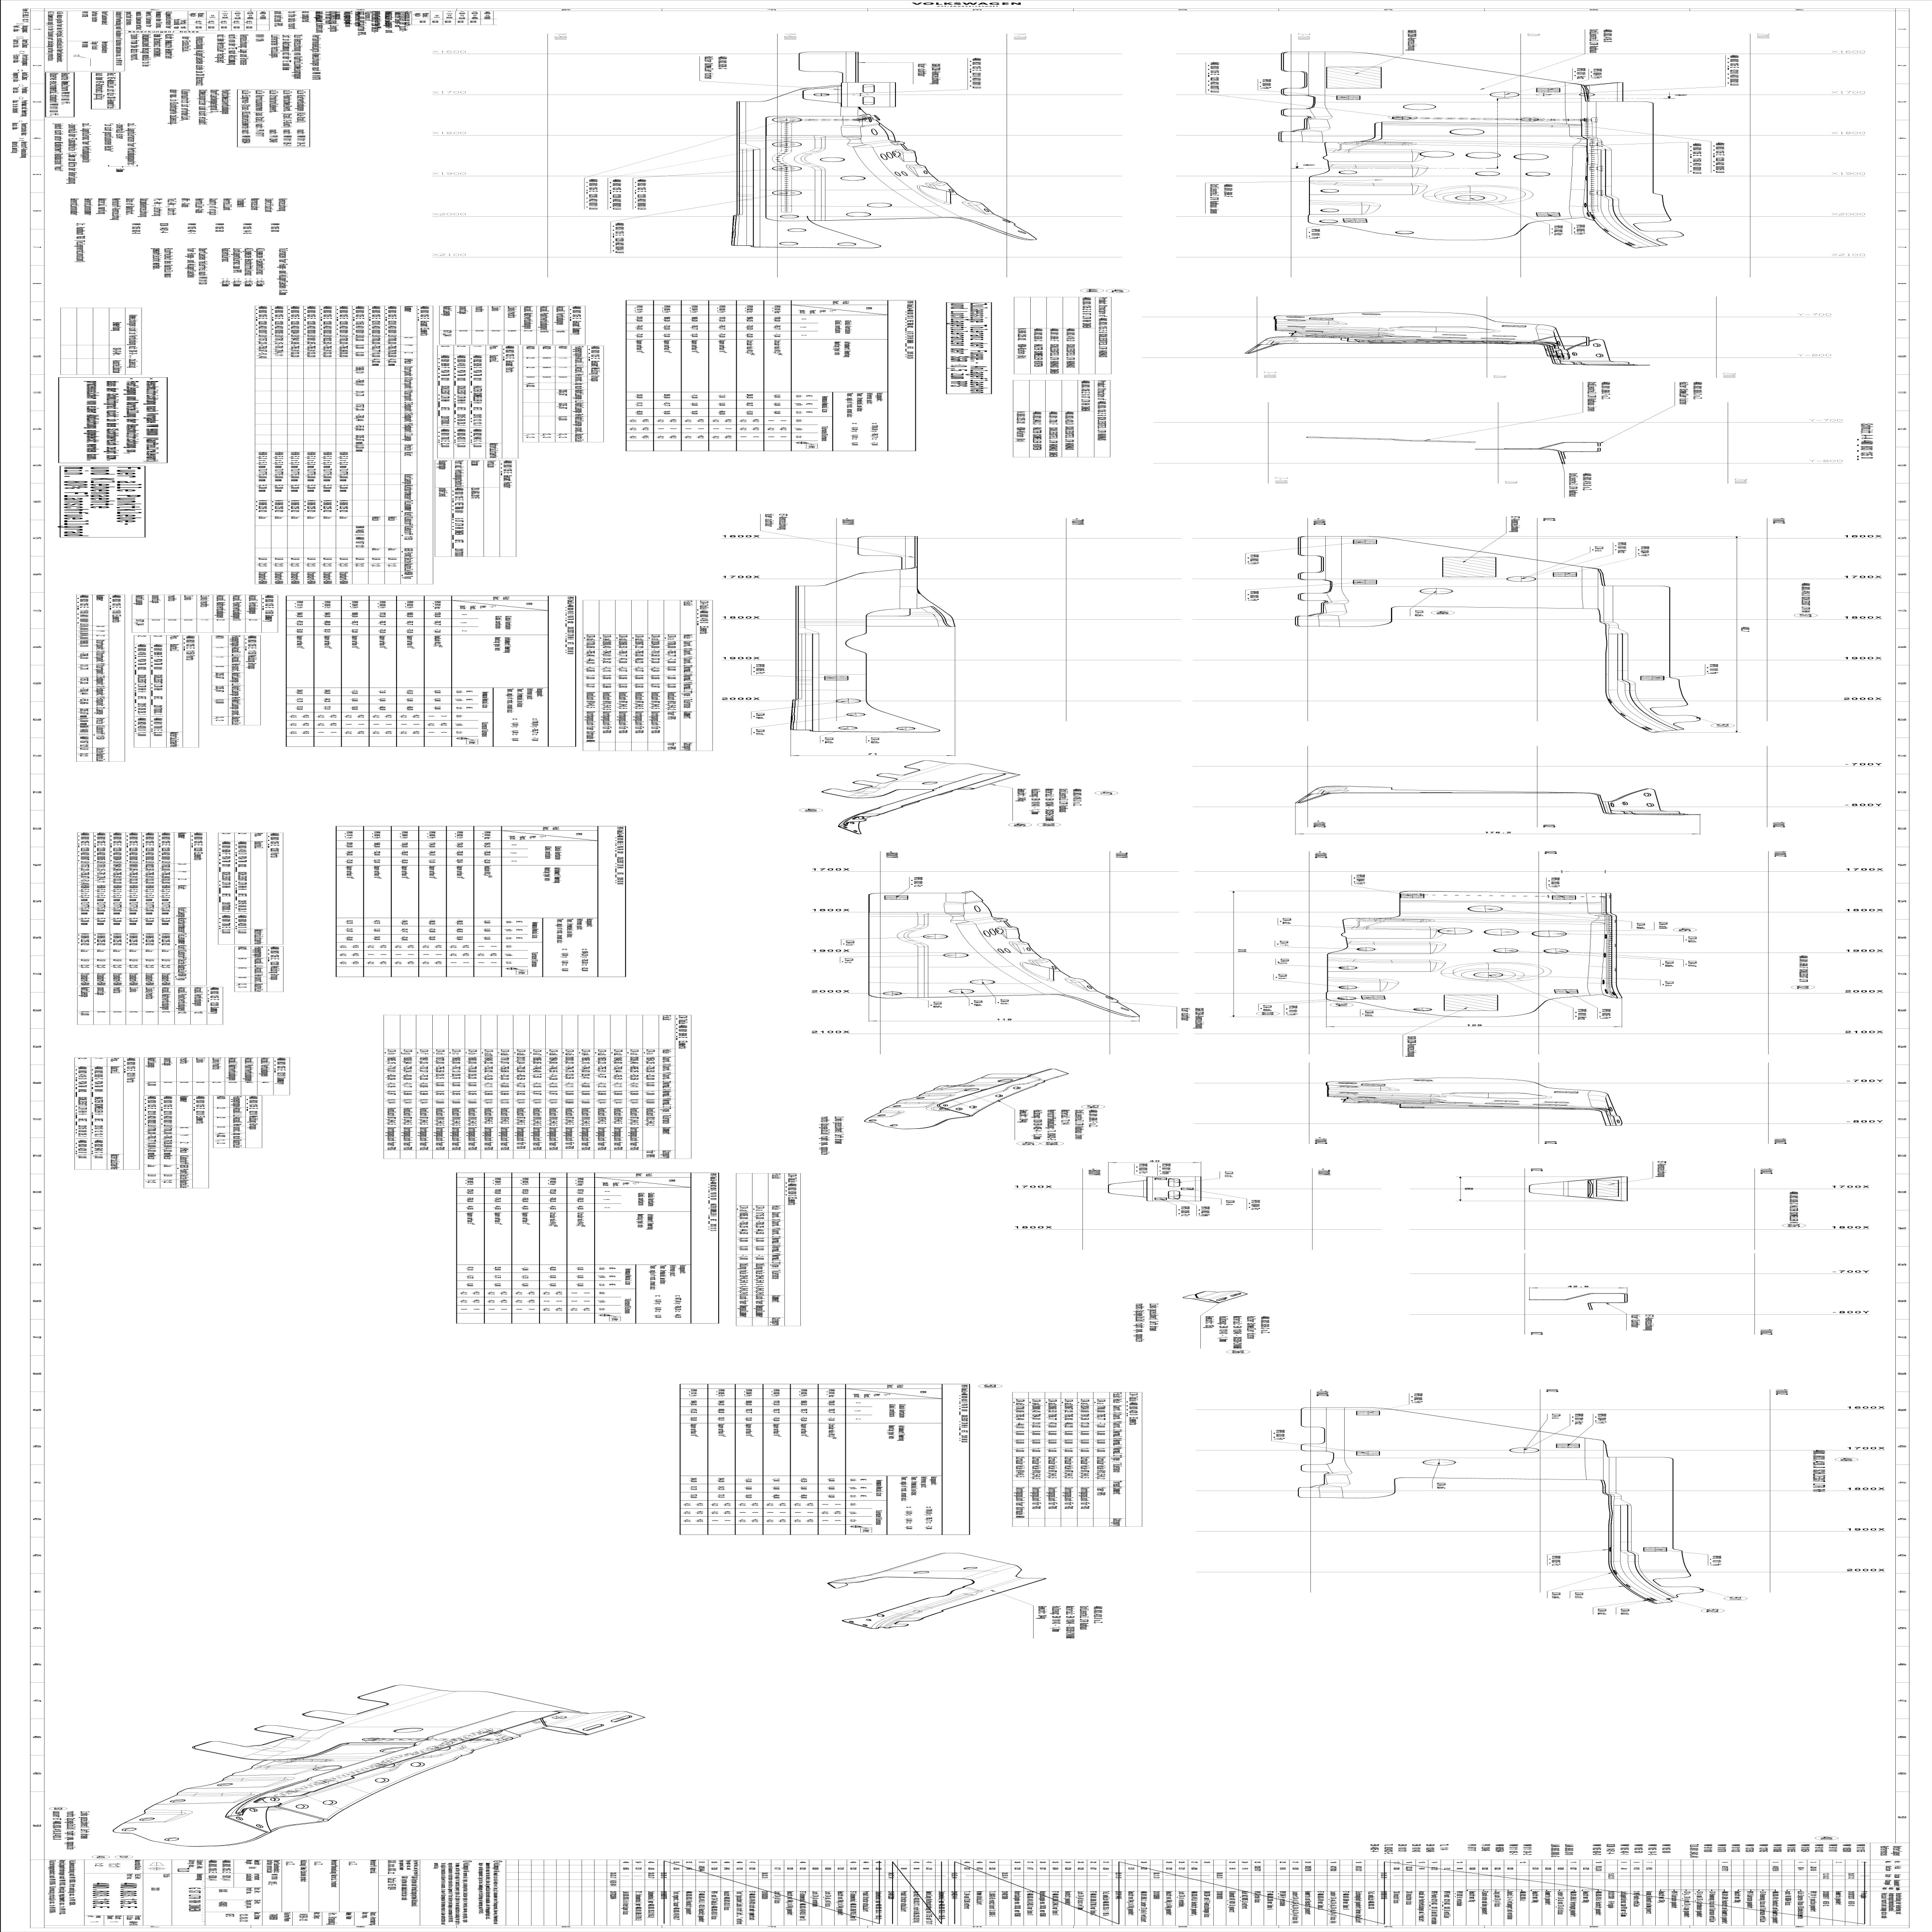Embossment: (159, 1789, 260, 1810), (131, 1805, 195, 1831), (216, 1771, 295, 1790), (913, 1092, 957, 1102), (888, 1100, 938, 1109), (870, 1109, 906, 1118)
InnerContour: (1513, 150, 1548, 163), (1484, 925, 1520, 938), (1435, 925, 1474, 936), (1530, 929, 1568, 939), (1467, 904, 1504, 915), (1421, 1458, 1458, 1468), (393, 1725, 425, 1737), (1449, 127, 1486, 136), (1506, 573, 1536, 584), (1403, 103, 1438, 111), (1465, 150, 1500, 159), (1419, 586, 1454, 594), (839, 173, 867, 184), (941, 950, 970, 961), (968, 977, 994, 987), (1509, 1445, 1539, 1454), (1419, 150, 1456, 157), (865, 200, 893, 209), (1491, 90, 1520, 99), (835, 697, 863, 706), (1525, 170, 1552, 179), (948, 987, 975, 996), (922, 932, 948, 941), (1493, 947, 1518, 955), (1543, 947, 1568, 955), (819, 156, 847, 163), (844, 211, 872, 218), (1338, 964, 1359, 973), (883, 989, 902, 998), (1318, 188, 1341, 195), (1320, 207, 1343, 214), (837, 724, 860, 731), (320, 1798, 338, 1806), (846, 711, 867, 718), (1338, 984, 1359, 991), (1474, 172, 1500, 177), (375, 1776, 391, 1785), (787, 225, 807, 232), (1357, 947, 1376, 954), (1414, 1005, 1431, 1012), (410, 1760, 425, 1769), (295, 1803, 310, 1812), (778, 241, 800, 246), (922, 780, 938, 787), (837, 241, 856, 246), (1339, 170, 1357, 175), (895, 727, 916, 731), (1644, 791, 1651, 798)
Notch: (209, 1720, 295, 1755), (265, 1707, 341, 1739), (313, 1691, 389, 1721), (800, 65, 844, 88), (832, 777, 872, 798), (883, 761, 922, 782), (1633, 218, 1679, 235), (1279, 113, 1313, 134), (1654, 1573, 1697, 1589), (1281, 67, 1309, 90), (1649, 702, 1695, 717), (858, 771, 899, 787), (1281, 92, 1316, 110), (1297, 577, 1332, 594), (1300, 1449, 1336, 1467), (1299, 552, 1325, 575), (1300, 1468, 1329, 1490), (1297, 598, 1327, 617), (1300, 1424, 1327, 1445)
